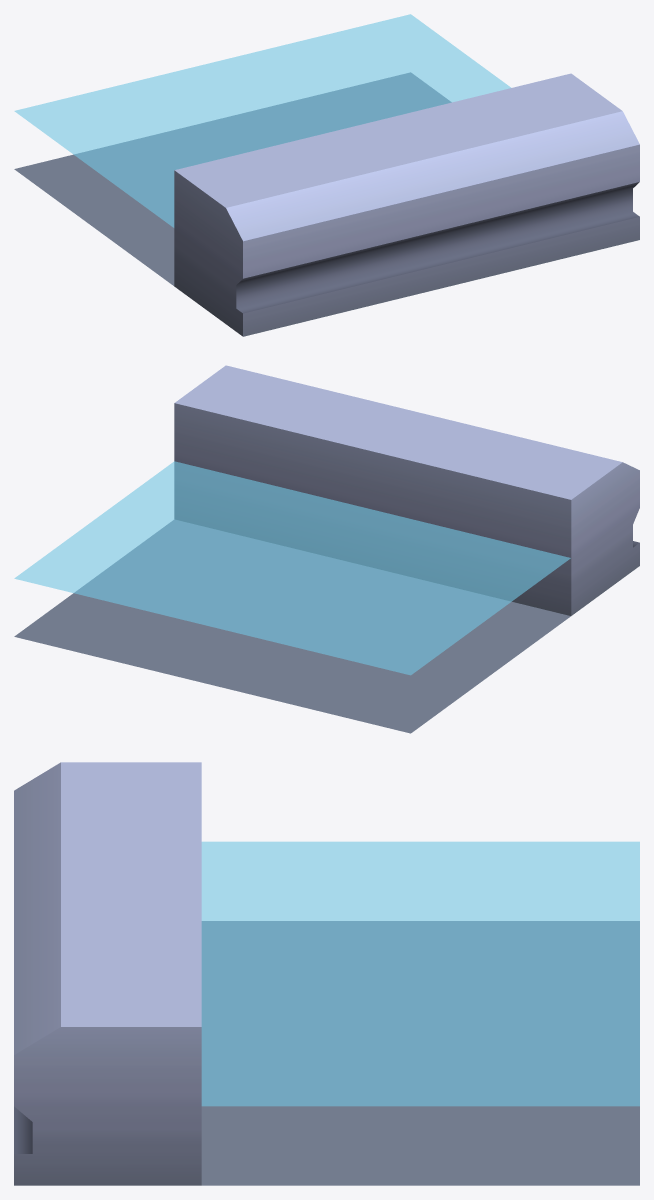
Rendered from fountain-edge.glb.
3 views of the same model, one above another, from view 1: azimuth 30°, elevation 25°; view 2: azimuth 150°, elevation 25°; view 3: azimuth 270°, elevation 25° (orthographic). The views are drawn at different scales.
Parts seen in each view (by area): view 1: fountain-edge, (%ignore); view 2: fountain-edge, (%ignore); view 3: fountain-edge, (%ignore).
Part boxes in pixels (x1,y1,x2,y2): fountain-edge: (14, 72, 639, 336); (%ignore): (14, 14, 510, 227); fountain-edge: (14, 365, 639, 733); (%ignore): (14, 461, 570, 675); fountain-edge: (14, 762, 639, 1185); (%ignore): (201, 841, 639, 1106).
Bounding box in the file's own units: 1 × 0.2799 × 1.
Materials: 2 (1 with a texture image).
